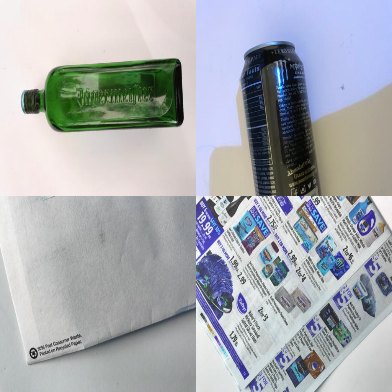glass: (20, 59, 184, 133)
metal: (240, 41, 323, 194)
paper: (196, 195, 392, 392), (1, 197, 195, 365)
